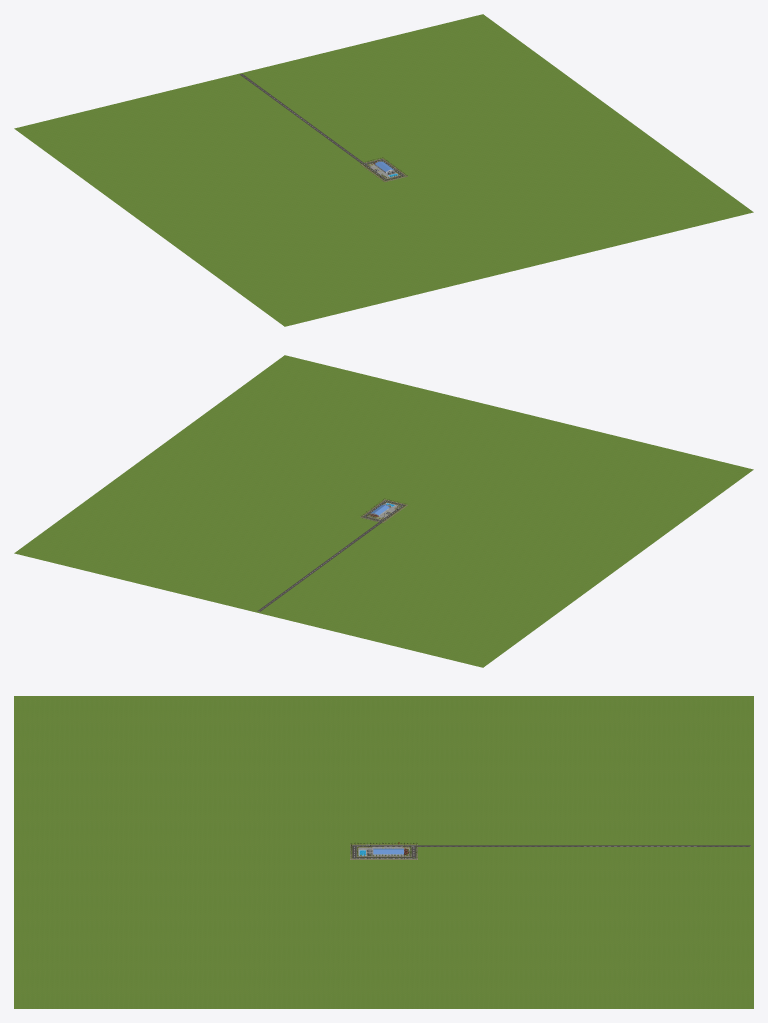
3 views of the same model, one above another, from view 1: azimuth 30°, elevation 25°; view 2: azimuth 150°, elevation 25°; view 3: azimuth 270°, elevation 25° (orthographic). The views are drawn at different scales.
Parts seen in each view (by area): view 1: 草地, 路面; view 2: 草地, 路面; view 3: 草地, 路面.
Boxes of the visible parts, left/top/right/bottom form: 草地: left=14, top=14, right=753, bottom=326; 路面: left=240, top=74, right=405, bottom=180; 草地: left=14, top=355, right=753, bottom=667; 路面: left=257, top=500, right=404, bottom=611; 草地: left=14, top=696, right=753, bottom=1008; 路面: left=352, top=845, right=750, bottom=858.
Bounding box in the file's own units: 2000 × 17.18 × 2000.
31 materials, 23 textured.
